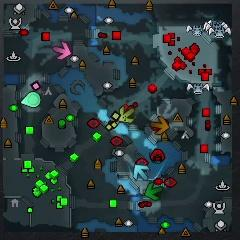p2: (21, 92, 41, 108)
x1: (53, 41, 72, 60)
x2: (119, 106, 135, 122)
x3: (133, 164, 149, 180)
x4: (145, 183, 162, 200)
x5: (151, 116, 169, 134)
